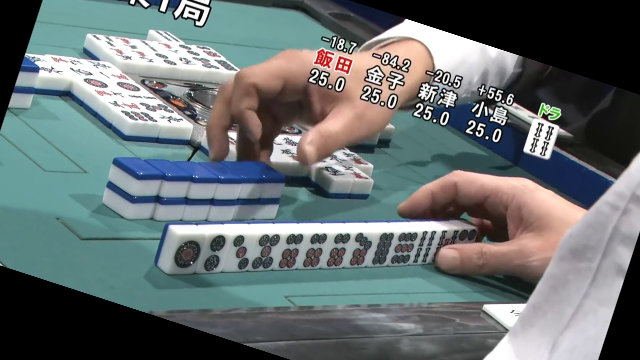Tehai: (161, 205, 483, 273)
